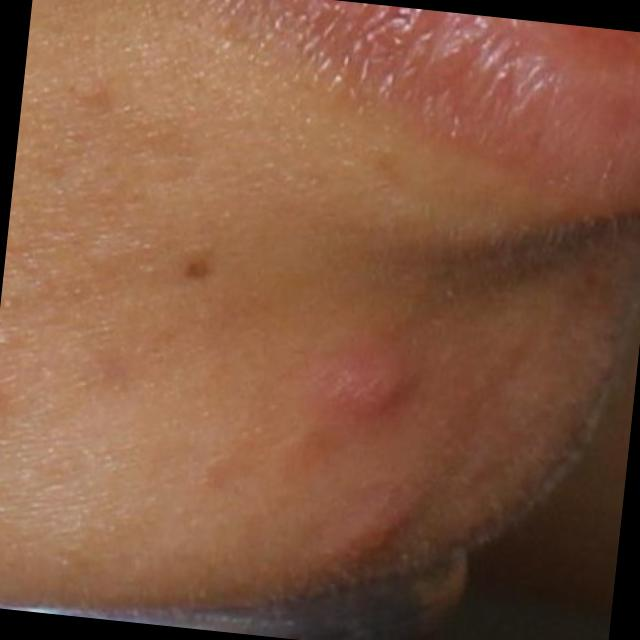blackhead: (184, 260, 209, 281)
nodule: (298, 470, 432, 585), (298, 328, 428, 443)
